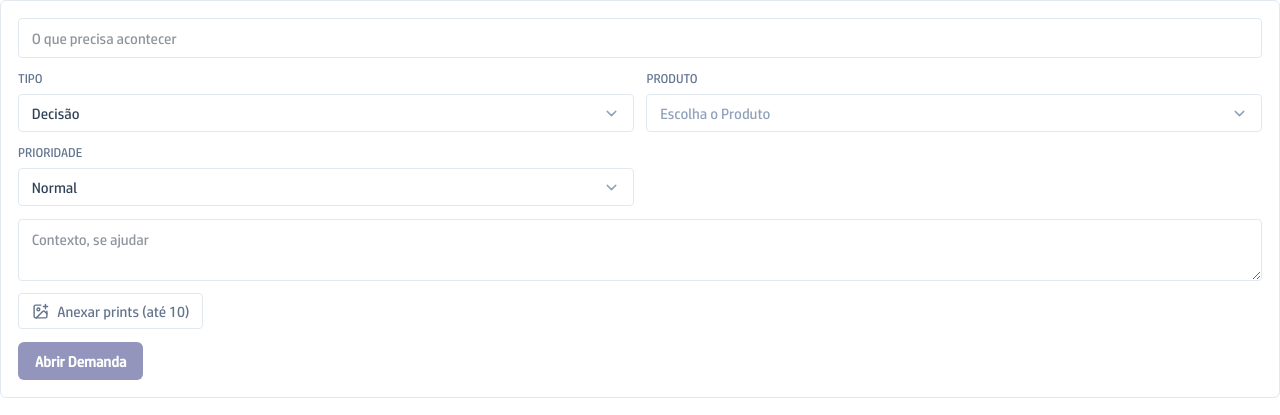
Test case: Abrir uma Demanda › só oferece Produto ativo
Click the dropdown labelled "Produto": point(715, 113) x1=646 y1=94 x2=1262 y2=132
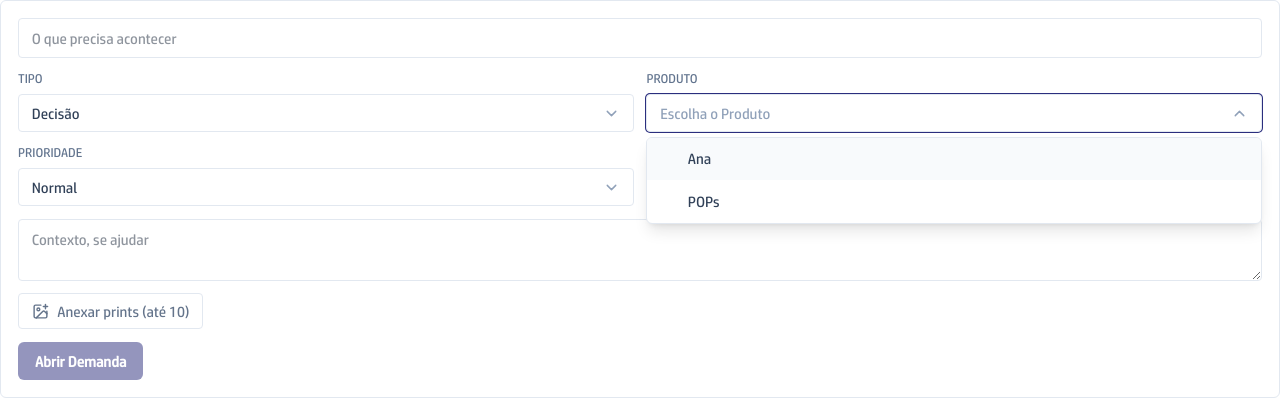
Expected: the options read "Ana", "POPs", in this order, x1=647 y1=138 x2=1261 y2=180; x1=688 y1=193 x2=720 y2=210
